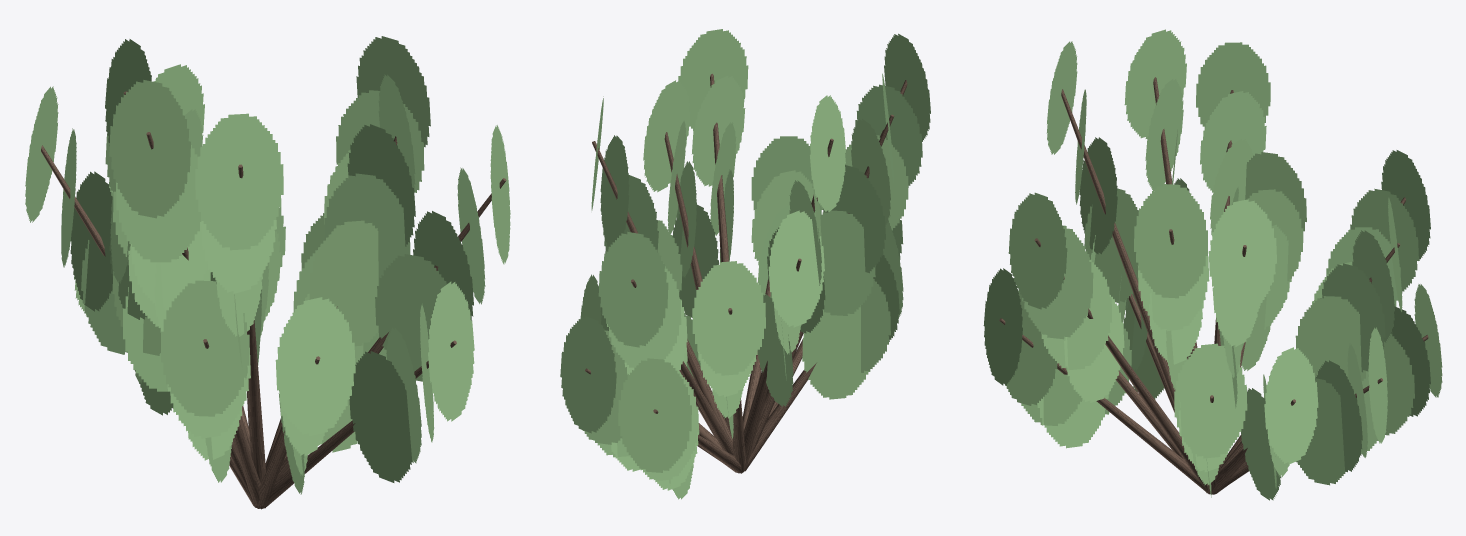
Rendered from shrub01.glb.
3 renders of one model, left to right at view 1: azimuth 30°, elevation 25°; view 2: azimuth 150°, elevation 25°; view 3: azimuth 270°, elevation 25°, orthographic. The views are drawn at different scales.
Visible parts, largest first — view 1: foliage, twigs; view 2: foliage, twigs; view 3: foliage, twigs.
Part boxes in pixels (x1,y1,x2,y2): foliage: (25, 36, 510, 494); twigs: (41, 91, 506, 509); foliage: (560, 29, 930, 499); twigs: (585, 73, 907, 473); foliage: (983, 29, 1442, 500); twigs: (999, 77, 1428, 494).
Size of the model in its own units: 0.9282 by 1.2 by 1.28.
2 materials, 2 textured.
